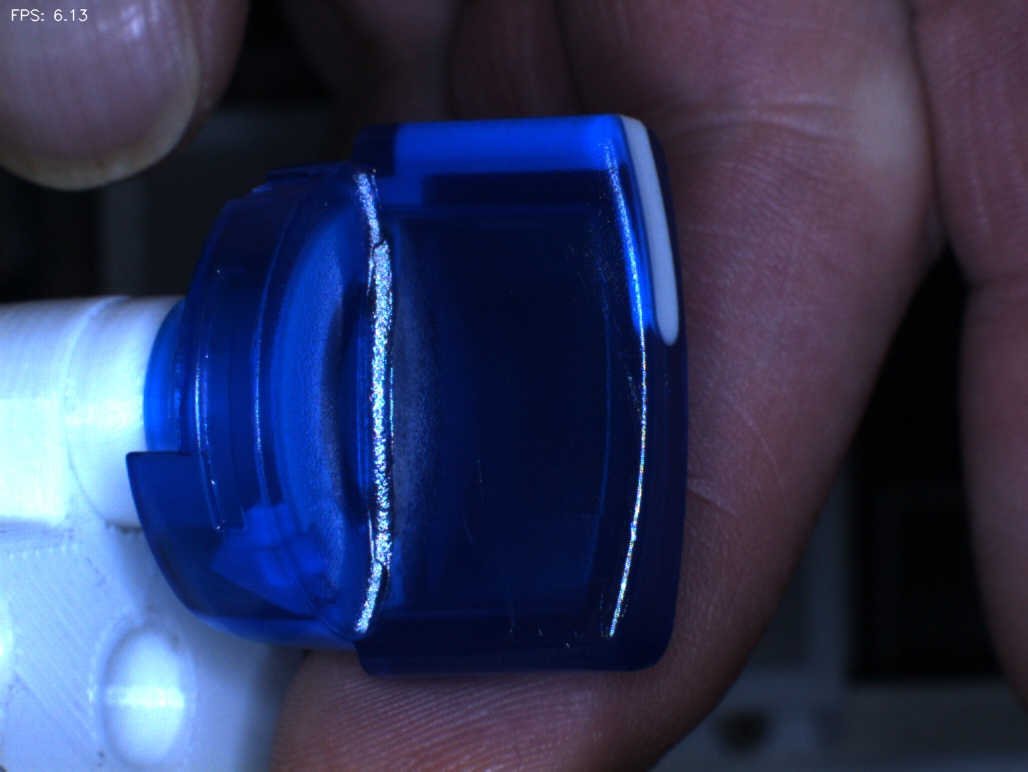Givrage: (555, 219, 647, 427), (442, 452, 529, 645), (548, 574, 634, 661)
